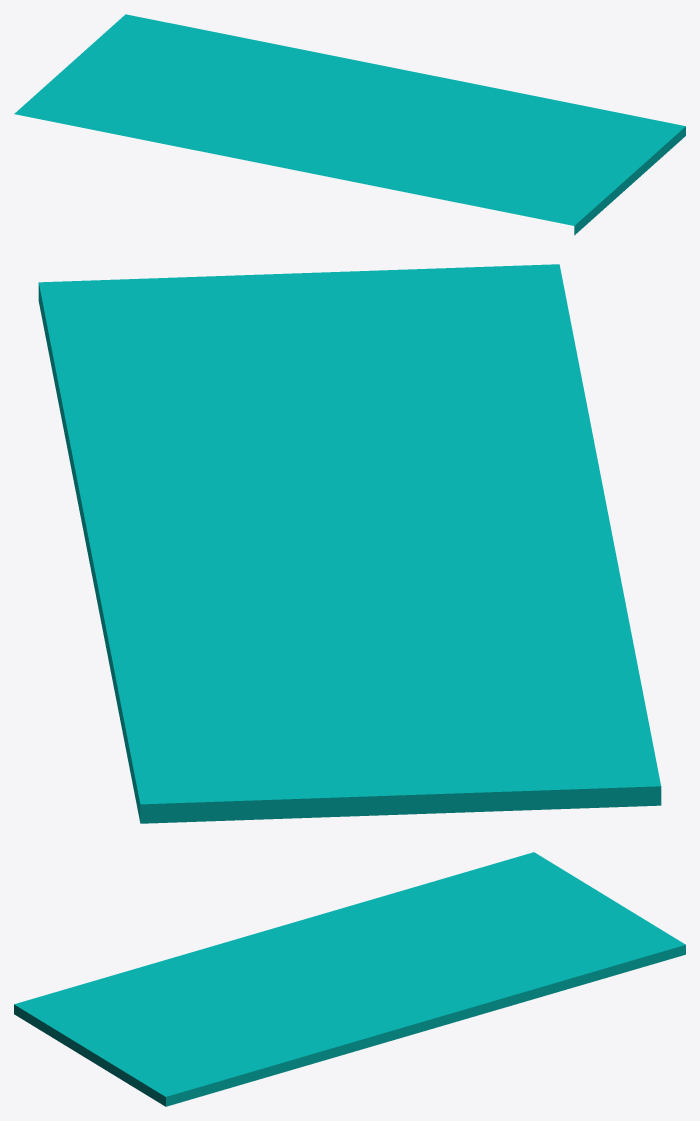
Rendered from ExchangeMat.glb.
The picture shows the model from 3 angles, top to bottom: view 1: azimuth 30°, elevation 25°; view 2: azimuth 150°, elevation 25°; view 3: azimuth 270°, elevation 25°; orthographic projection. The views are drawn at different scales.
Visible parts, largest first — view 1: ExchangeMat; view 2: ExchangeMat; view 3: ExchangeMat.
Boxes of the visible parts, left/top/right/bottom form: ExchangeMat: left=14, top=14, right=685, bottom=235; ExchangeMat: left=38, top=264, right=661, bottom=823; ExchangeMat: left=14, top=852, right=685, bottom=1106.
Size of the model in its own units: 2.19 by 0.0412 by 2.54.
